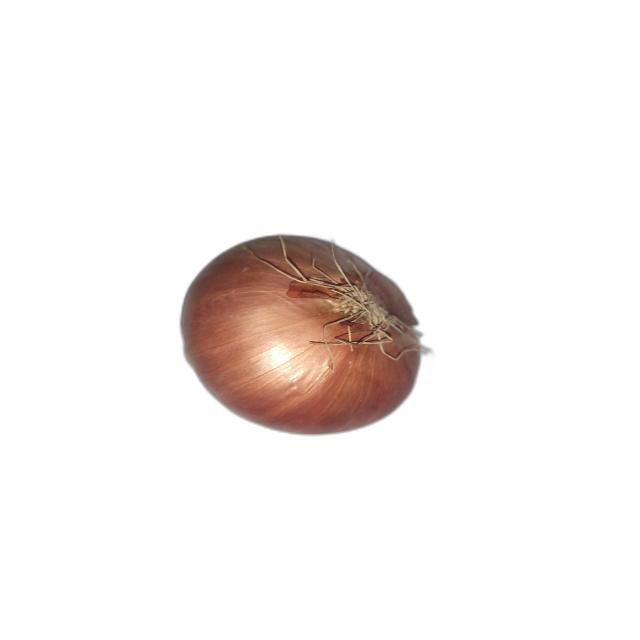onion: (180, 234, 431, 437)
